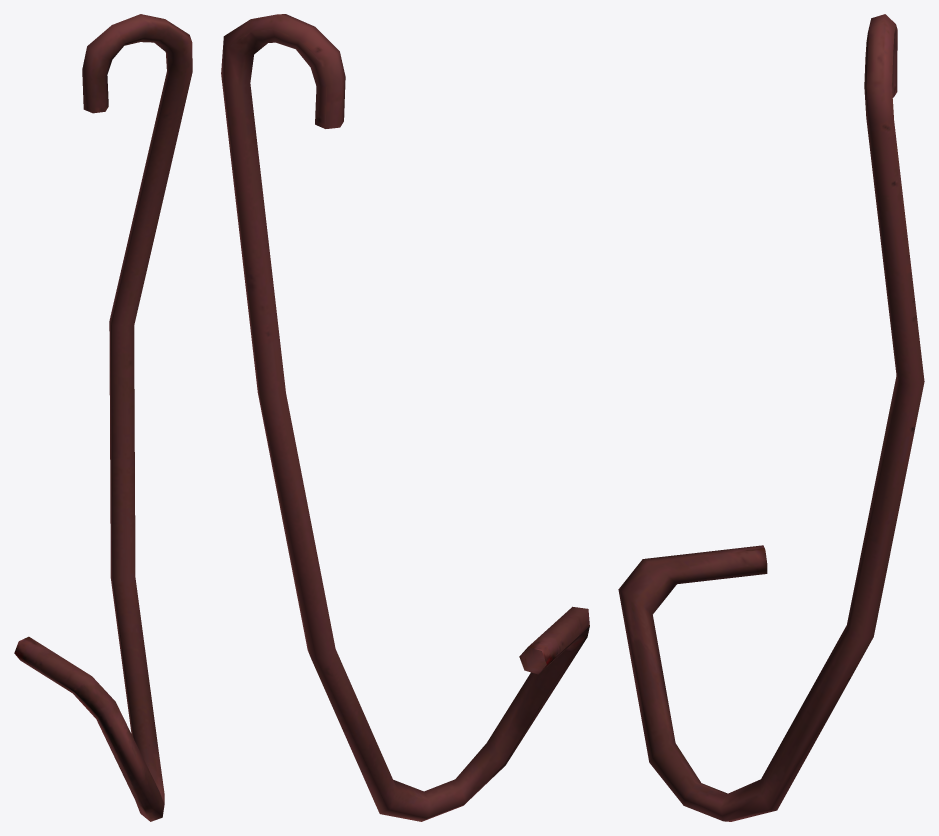
The model's file is multitool_trolley_ark_room_cable2.DAE.
3 views of the same model, side by side, from view 1: azimuth 30°, elevation 25°; view 2: azimuth 150°, elevation 25°; view 3: azimuth 270°, elevation 25° (orthographic). The views are drawn at different scales.
Visible parts, largest first — view 1: multitool_trolley_ark_room_cable2; view 2: multitool_trolley_ark_room_cable2; view 3: multitool_trolley_ark_room_cable2.
Part boxes in pixels (left/top/right/bottom): multitool_trolley_ark_room_cable2: left=14, top=14, right=192, bottom=821; multitool_trolley_ark_room_cable2: left=221, top=14, right=589, bottom=821; multitool_trolley_ark_room_cable2: left=618, top=14, right=924, bottom=821.
Bounding box in the file's own units: 0.5435 × 1.66 × 0.5567.
